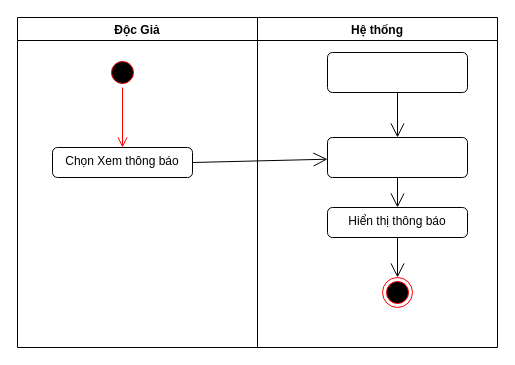
This 515x365 diagram has some shape labels left out. Each missing label, with the box of its shape:
Hiển thị trang thống kê: (326, 52, 468, 92)
Truy vấn cơ sở dữ liệu: (326, 136, 468, 178)
